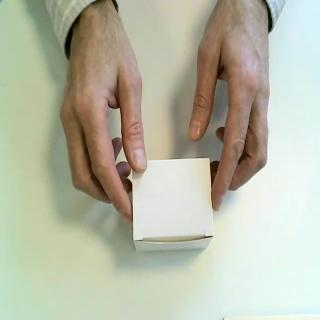apodorm5mg: (131, 157, 216, 254)
